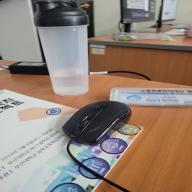Mouse: (61, 100, 133, 146)
